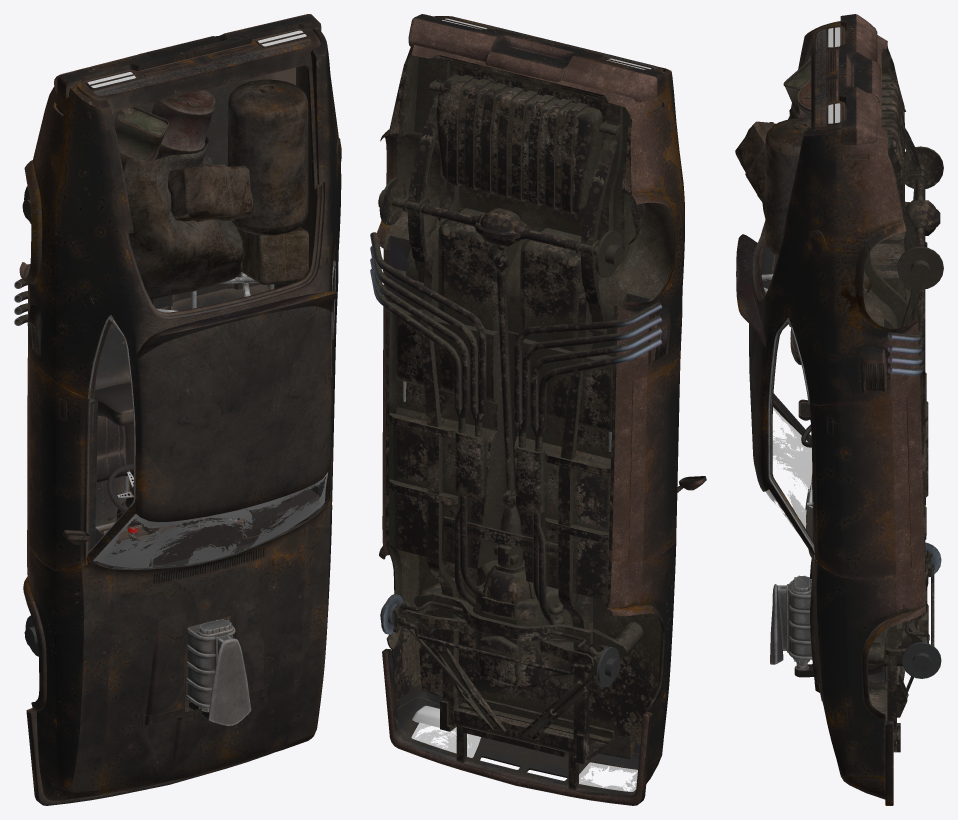
Rendered from Interceptor.obj.
3 renders of one model, left to right at view 1: azimuth 30°, elevation 25°; view 2: azimuth 150°, elevation 25°; view 3: azimuth 270°, elevation 25°, orthographic. The views are drawn at different scales.
Parts seen in each view (by area): view 1: T_Outside, T_Trunk, T_Inside, T_Lights, T_Underbody; view 2: T_Underbody, T_Outside, T_Inside, T_Lights; view 3: T_Outside, T_Underbody, T_Trunk, T_Lights, T_Inside.
Boxes of the visible parts, <box> form: T_Outside: <box>19,14,341,805</box>; T_Trunk: <box>114,79,308,299</box>; T_Inside: <box>28,65,332,570</box>; T_Lights: <box>87,30,327,568</box>; T_Underbody: <box>14,186,230,717</box>; T_Underbody: <box>370,55,674,790</box>; T_Outside: <box>375,14,706,805</box>; T_Inside: <box>397,381,676,795</box>; T_Lights: <box>411,18,651,791</box>; T_Outside: <box>736,14,925,805</box>; T_Underbody: <box>863,45,943,752</box>; T_Trunk: <box>735,59,871,293</box>; T_Lights: <box>765,27,840,534</box>; T_Inside: <box>761,57,889,681</box>.
Bounding box in the file's own units: 115 × 272 × 74.61.
